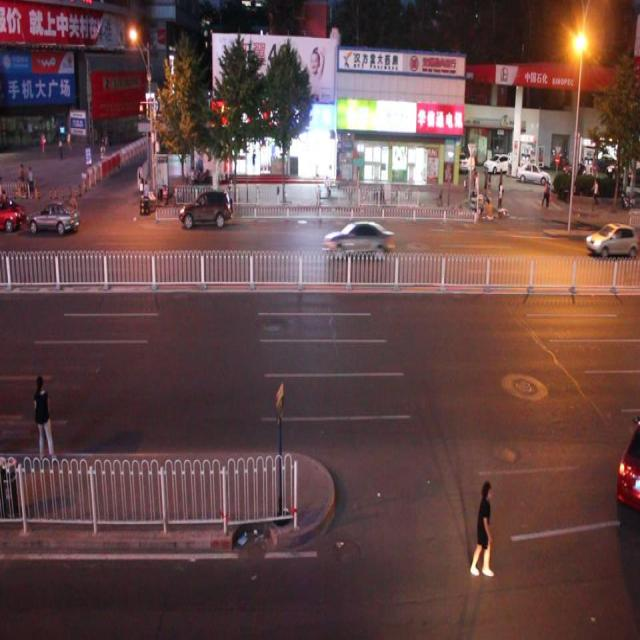car: (321, 217, 392, 261), (614, 419, 640, 513), (177, 185, 232, 227), (26, 196, 81, 237), (584, 220, 640, 258)
